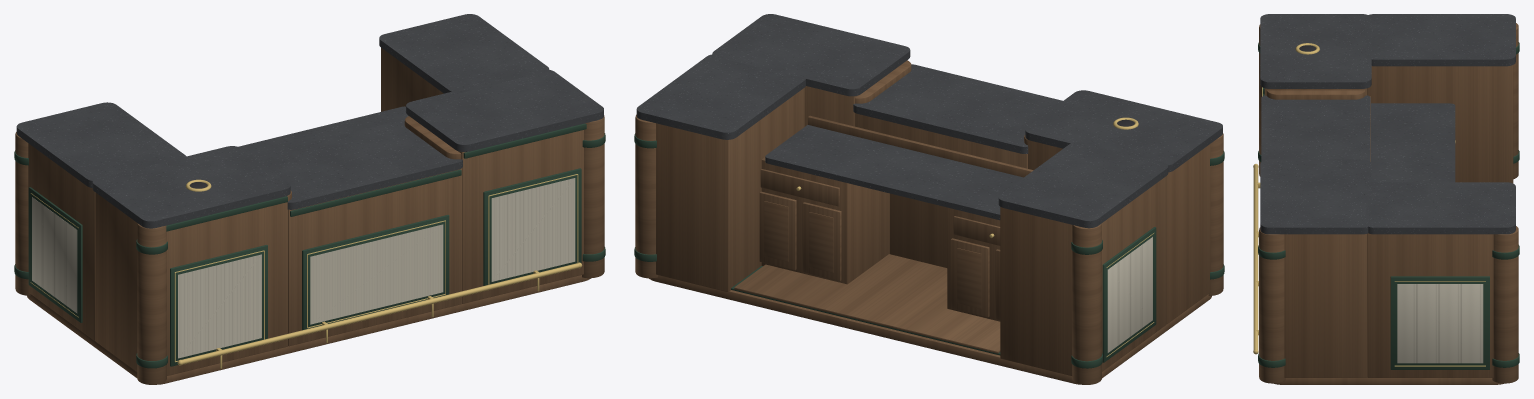
The model's file is checkout_counter.glb.
3 renders of one model, left to right at view 1: azimuth 30°, elevation 25°; view 2: azimuth 150°, elevation 25°; view 3: azimuth 270°, elevation 25°, orthographic. The views are drawn at different scales.
Parts seen in each view (by area): view 1: checkout_counter_body; view 2: checkout_counter_body, Drawer_R, Drawer_L; view 3: checkout_counter_body.
Boxes of the visible parts, x1,y1,x2,y2 form: checkout_counter_body: (14,14,605,384); checkout_counter_body: (634,14,1224,384); Drawer_R: (760,169,839,206); Drawer_L: (953,216,1000,245); checkout_counter_body: (1253,14,1519,384).
Size of what is drawn, in the model's own units: 3.08 by 1.08 by 1.61.
Materials: 7 (3 with a texture image).
